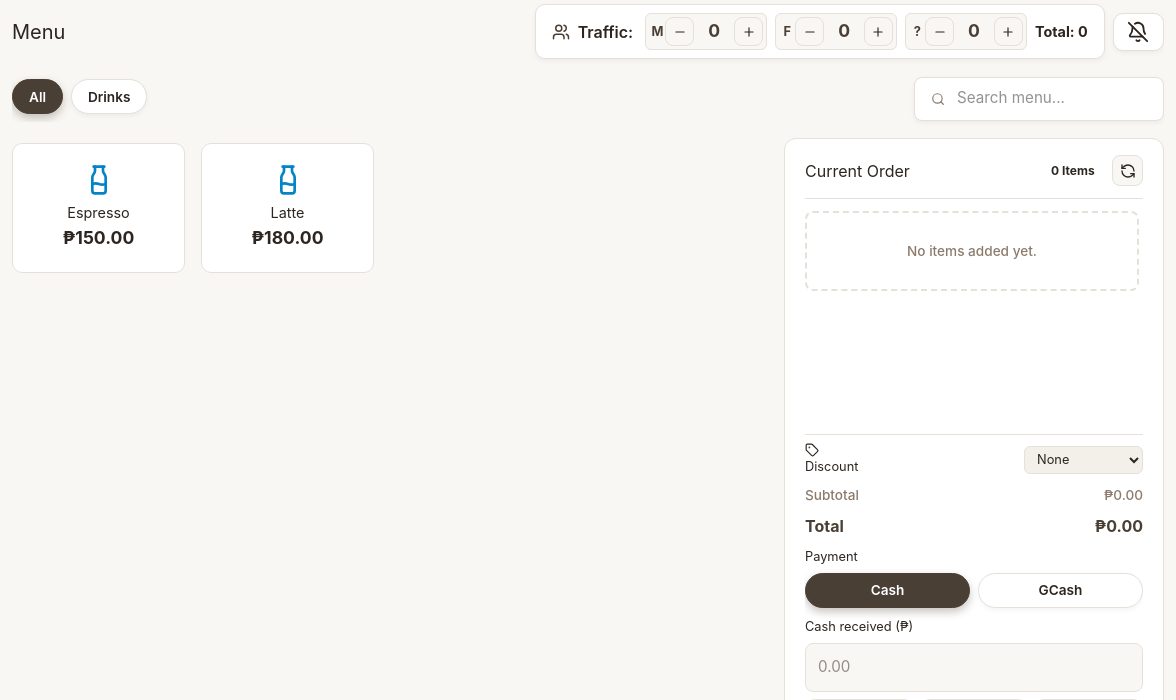
Test: MainPOS › should default quick-add traffic to unspecified when no gender tapped
Click the heading "Espresso" at (99, 213), box [67, 204, 130, 221]
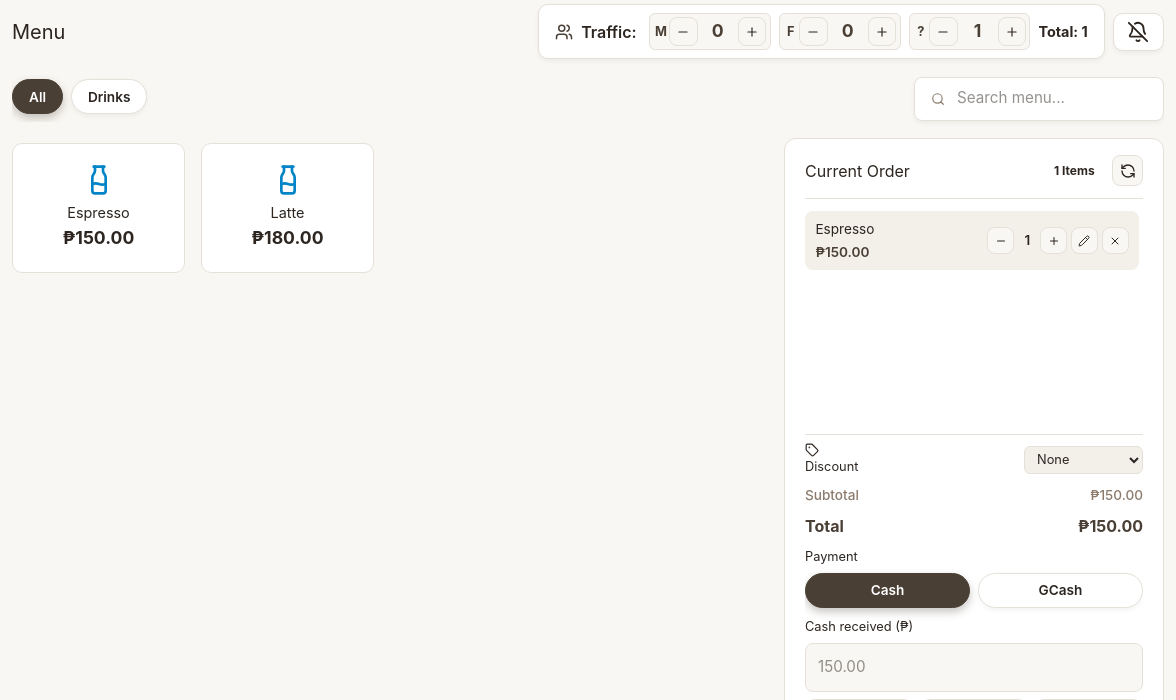
expect the number field with test id "unspecified-count-input" holds "1": met, box [958, 18, 998, 45]
expect the text with test id "traffic-total" reads "Total: 1": met, box [1038, 21, 1088, 42]
